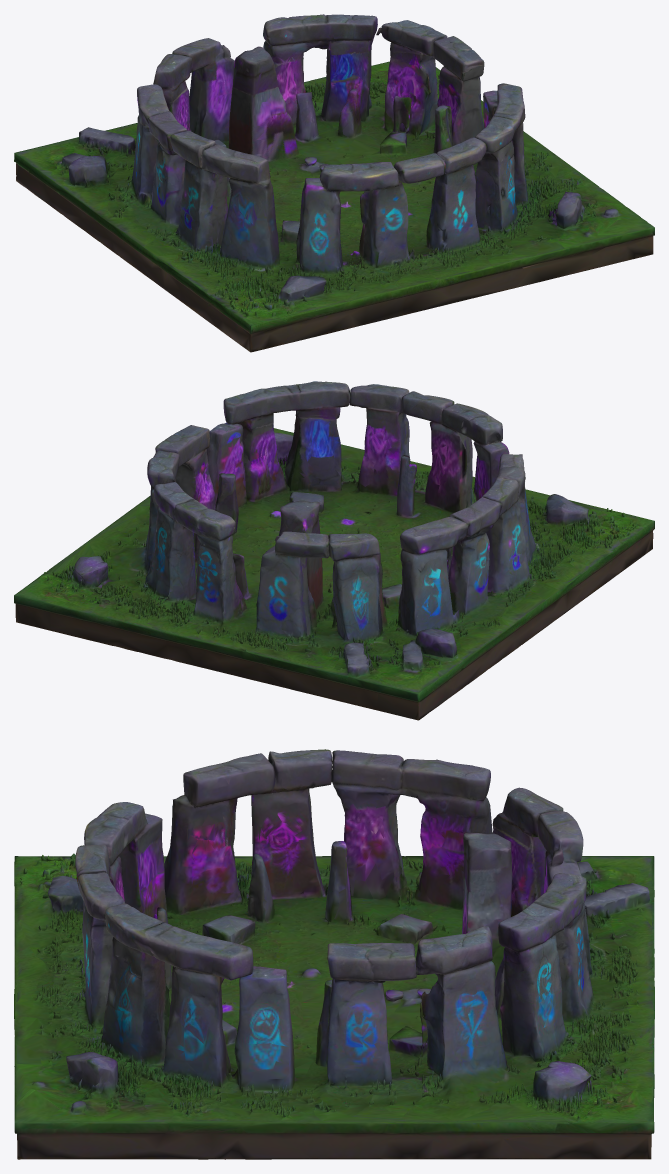
The model's file is England_Mystic_Ston.glb.
The picture shows the model from 3 angles, top to bottom: view 1: azimuth 30°, elevation 25°; view 2: azimuth 150°, elevation 25°; view 3: azimuth 270°, elevation 25°; orthographic projection. The views are drawn at different scales.
Parts seen in each view (by area): view 1: England_Mystic_Ston; view 2: England_Mystic_Ston; view 3: England_Mystic_Ston.
Part boxes in pixels (x1,y1,x2,y2): England_Mystic_Ston: (14,14,654,352); England_Mystic_Ston: (14,381,654,720); England_Mystic_Ston: (14,749,654,1159).
Size of the model in its own units: 1.97 by 0.5955 by 2.
1 material, 1 textured.
